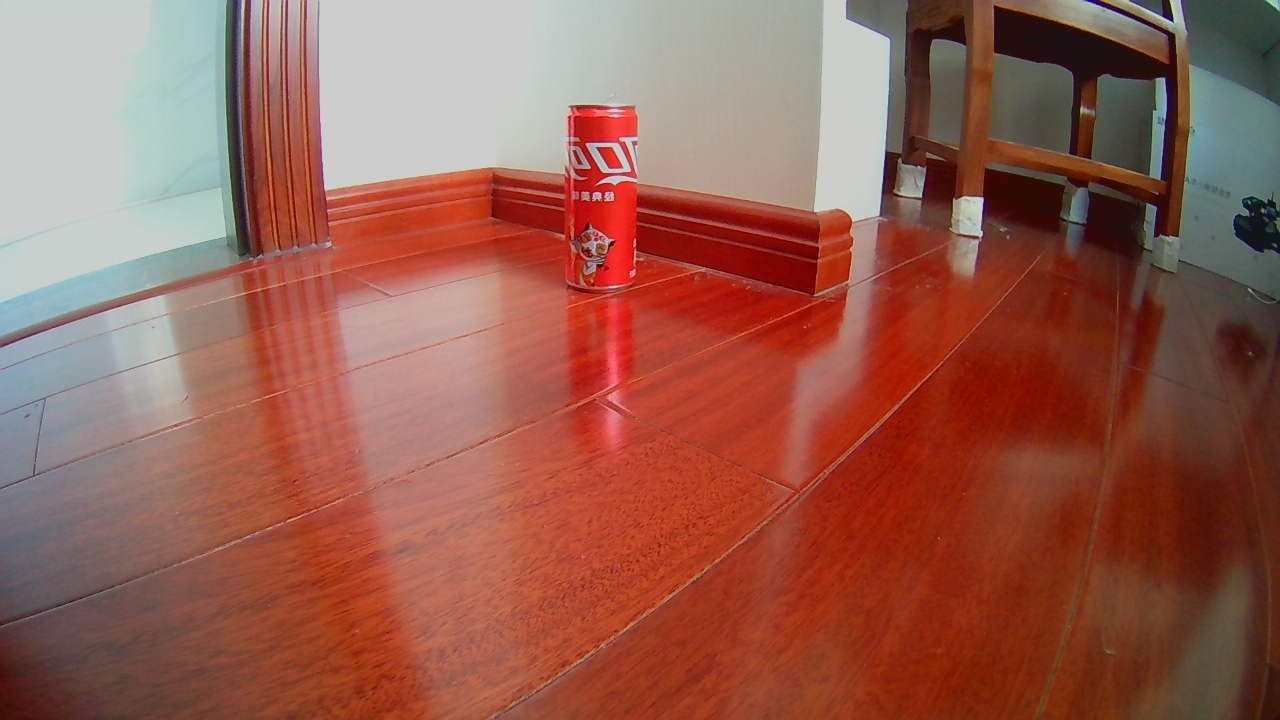cola: (564, 101, 638, 290)
